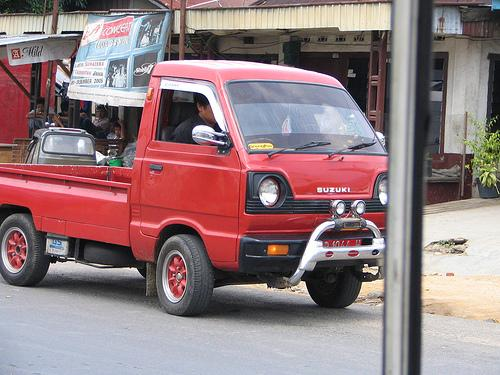truck: (0, 59, 389, 318)
